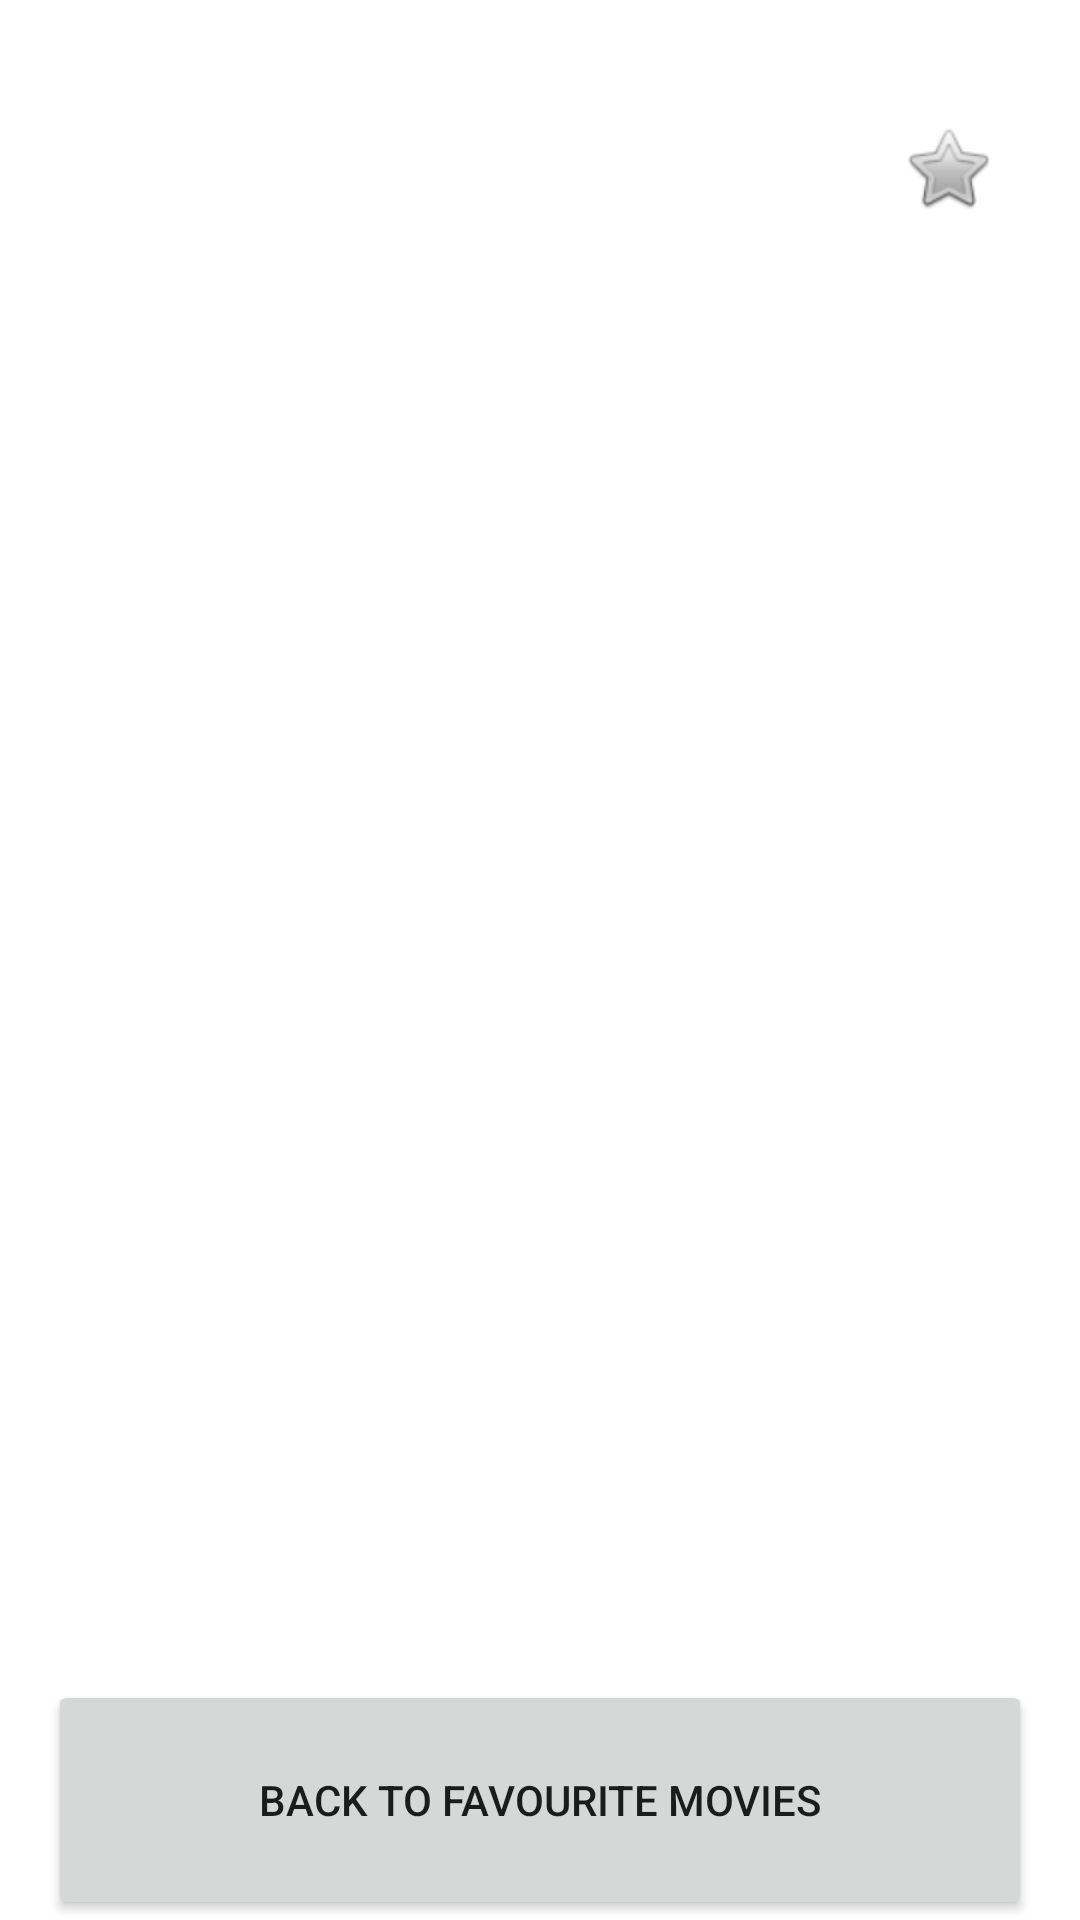

Icons on this 1080x1920 Android screen, each with the point to tap as (x=x, y=y):
star off: (x=949, y=169)
